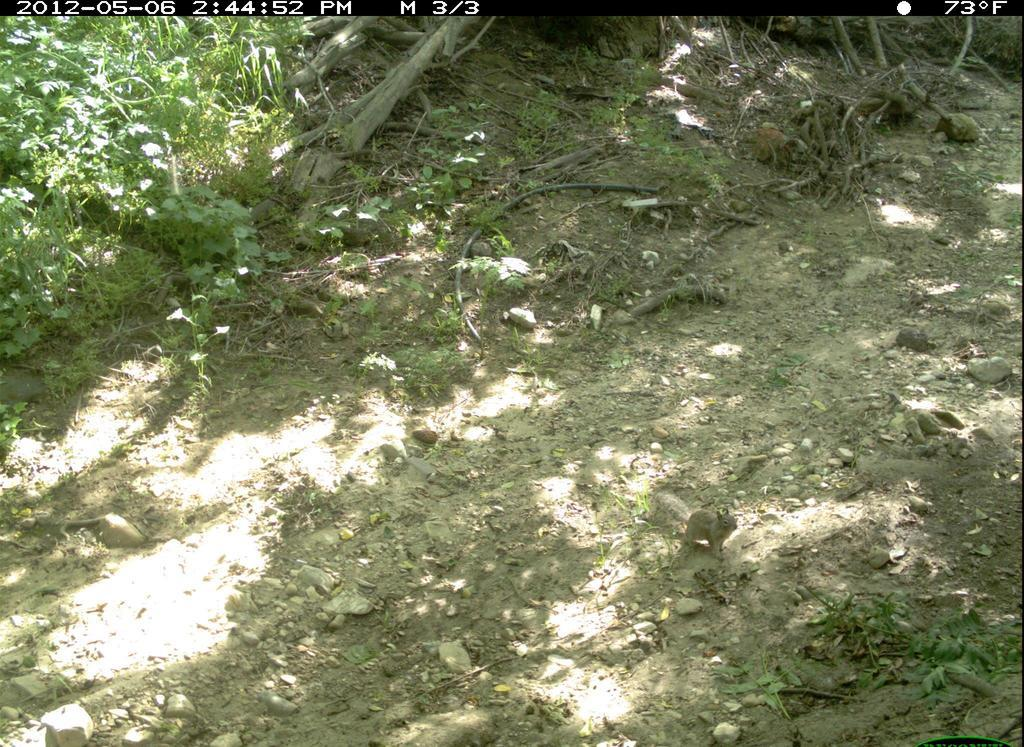squirrel: (644, 481, 754, 564)
